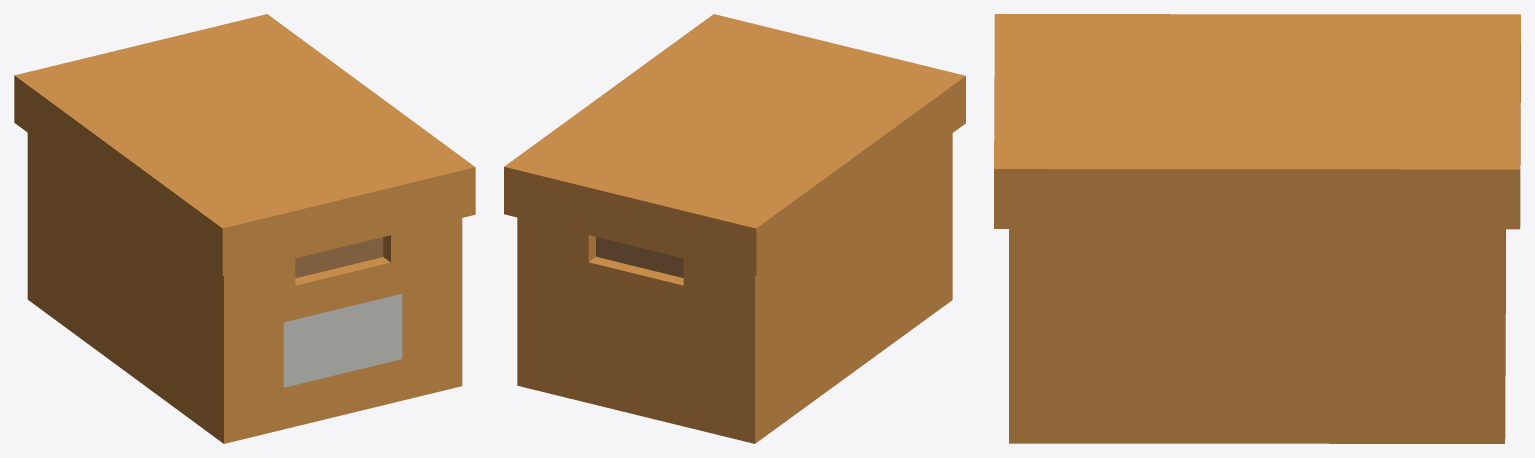
The model's file is CardboardBox_01.FBX.
3 views of the same model, side by side, from view 1: azimuth 30°, elevation 25°; view 2: azimuth 150°, elevation 25°; view 3: azimuth 270°, elevation 25° (orthographic). The views are drawn at different scales.
Visible parts, largest first — view 1: CardboardBox_01; view 2: CardboardBox_01; view 3: CardboardBox_01.
Part boxes in pixels (x1,y1,x2,y2): CardboardBox_01: [14, 14, 475, 443]; CardboardBox_01: [504, 14, 965, 443]; CardboardBox_01: [994, 14, 1520, 443].
Bounding box in the file's own units: 32.96 × 27.54 × 47.17.
